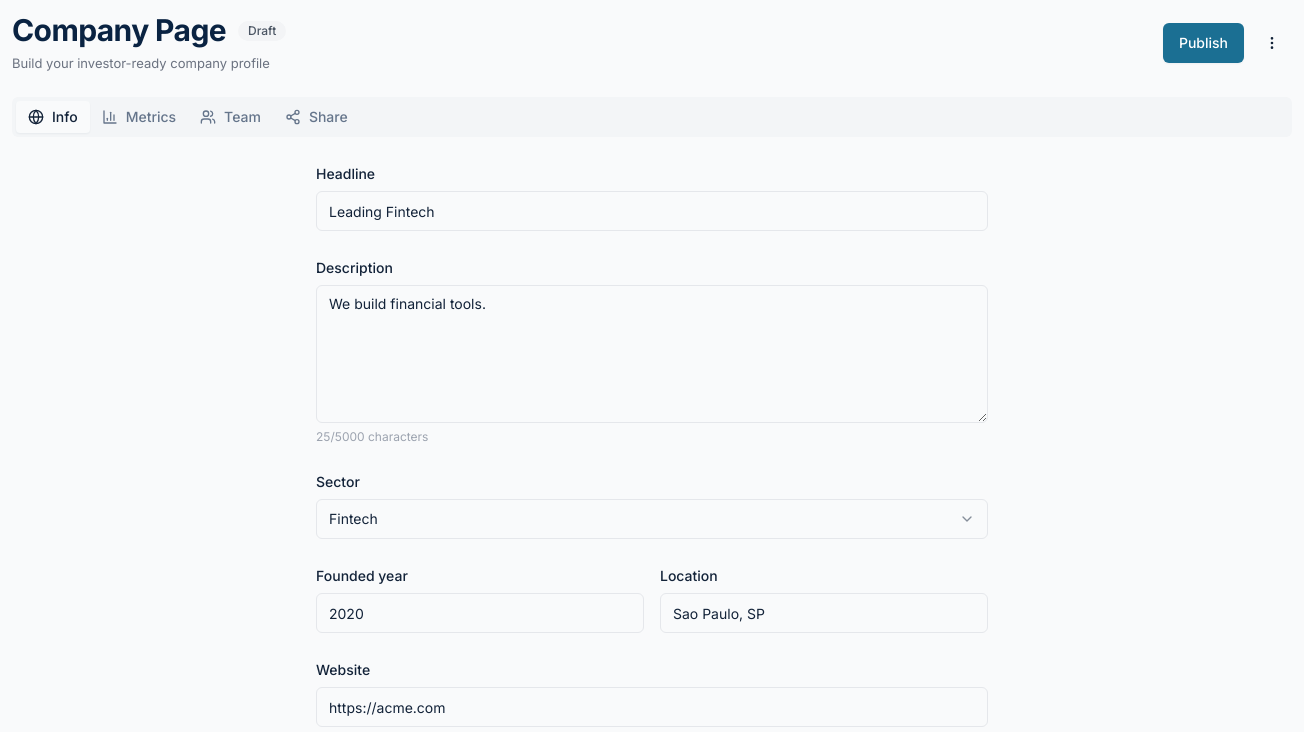
Test: CompanyPagePage › shows existing team members when switching to Team tab
Click the tab "Team": coordinates (230, 117) [188,101,273,133]
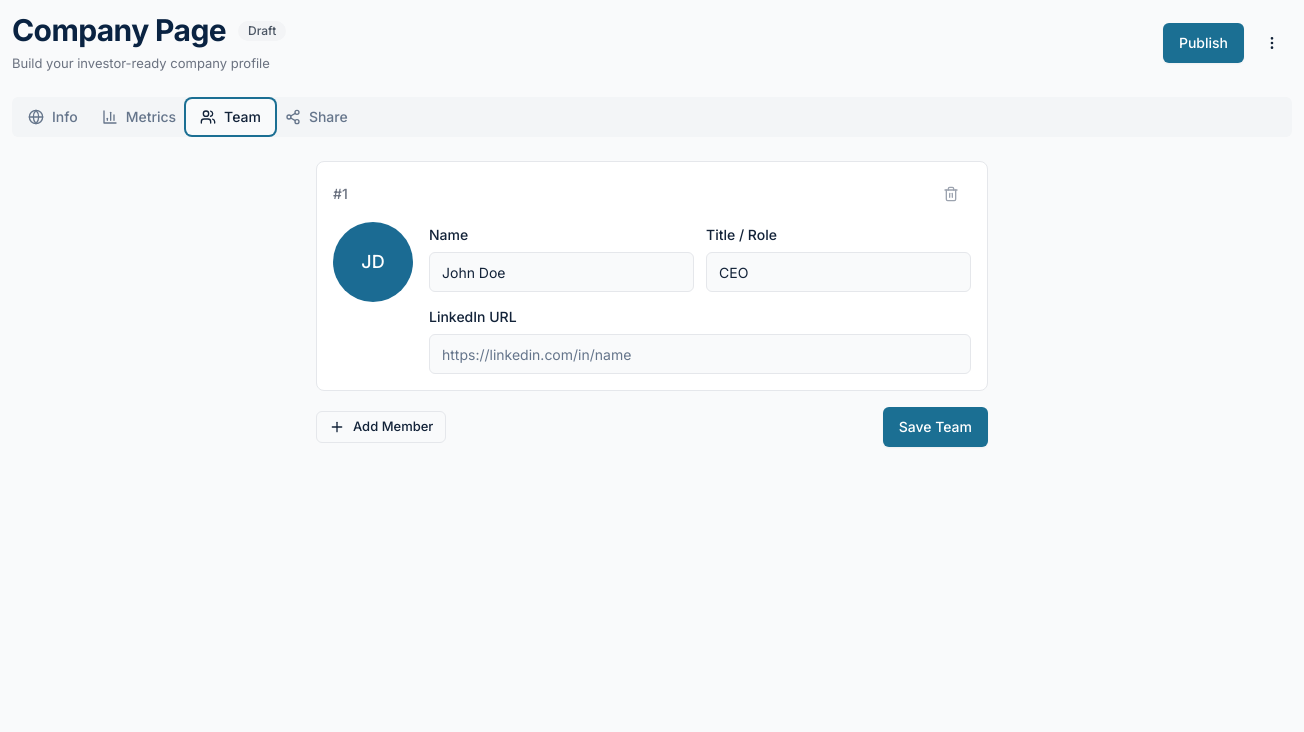
Result: the field showing "John Doe" below "Name" is shown at [429,252,694,292]
Result: the field showing "CEO" below "Title / Role" is shown at [706,252,971,292]
